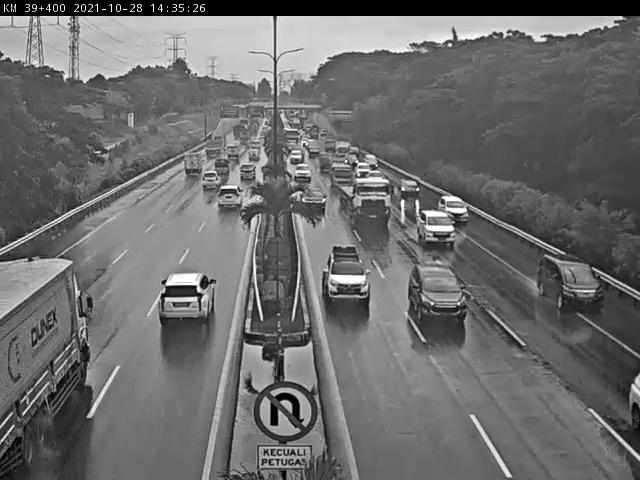big truck: (0, 256, 102, 469), (346, 171, 396, 224)
car: (144, 262, 222, 347), (533, 251, 607, 315), (408, 258, 474, 328), (322, 239, 372, 305), (414, 207, 461, 251), (212, 182, 244, 221), (438, 187, 473, 218), (299, 185, 328, 215), (233, 167, 260, 195), (396, 173, 425, 198), (201, 170, 224, 201)
small truck: (172, 150, 206, 187)
